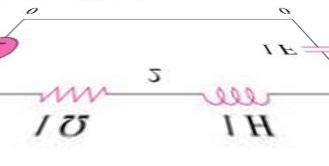inductor: (192, 79, 276, 110)
